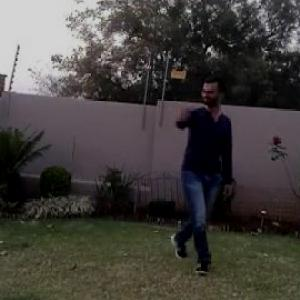takeoff-hand: (172, 99, 197, 131)
